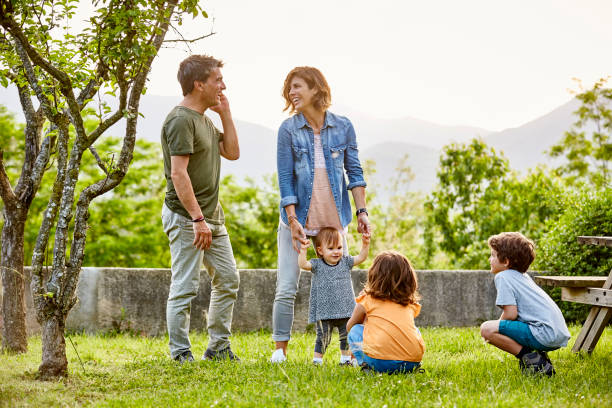without mask: (276, 68, 322, 112), (189, 63, 235, 107), (312, 224, 358, 268), (478, 237, 524, 281)
